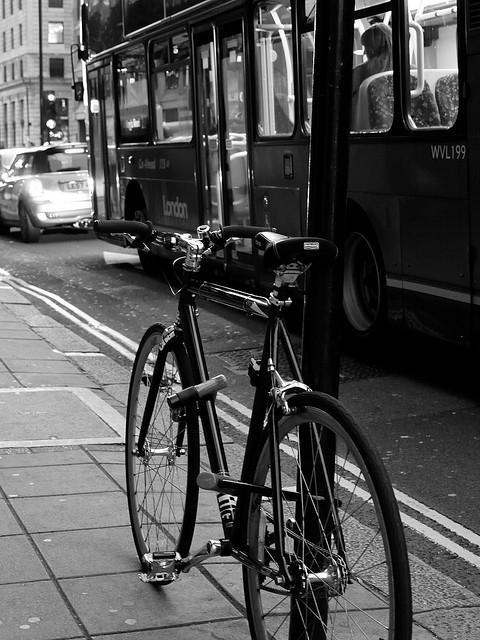bicycle: (89, 222, 411, 637)
bus: (77, 0, 480, 362)
car: (0, 142, 97, 246)
